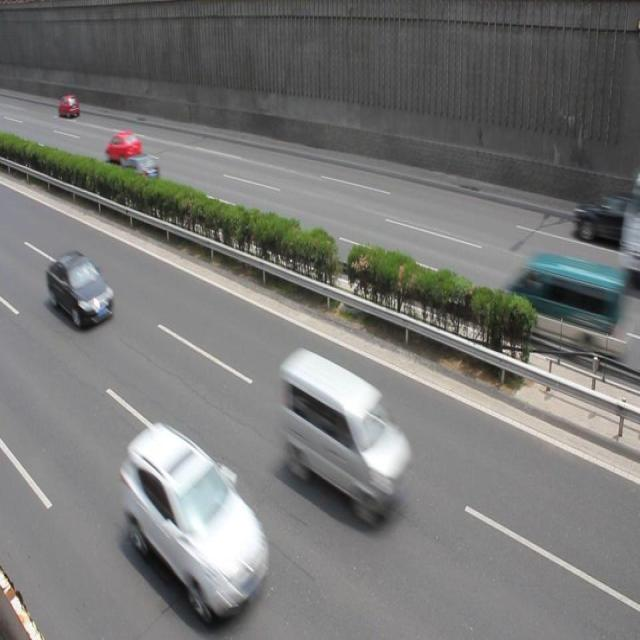car: (121, 421, 271, 605), (280, 348, 414, 523), (45, 248, 115, 330), (121, 153, 159, 194), (105, 129, 143, 166)
truck: (501, 254, 616, 361)
